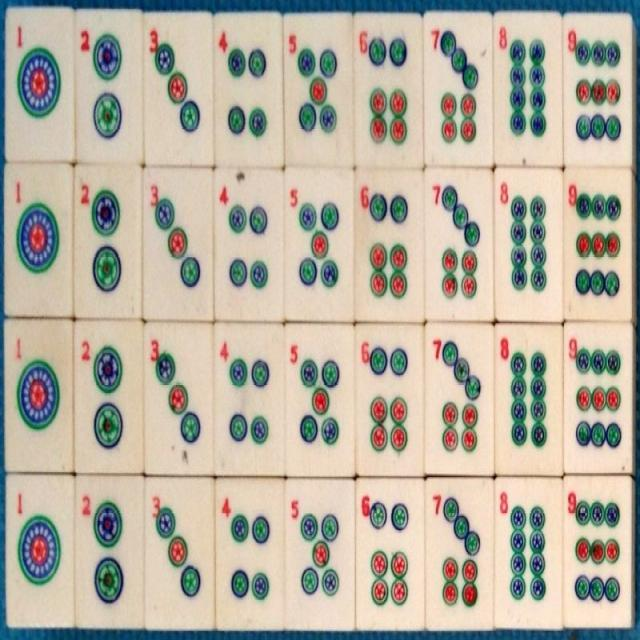sd1: (5, 319, 70, 471), (5, 163, 70, 314), (6, 480, 72, 628), (5, 12, 70, 160)
sd2: (77, 324, 146, 474), (77, 164, 144, 316), (78, 478, 146, 625), (78, 12, 145, 160)
sd3: (146, 170, 216, 318), (146, 322, 214, 474), (146, 17, 216, 163), (148, 481, 217, 626)
sd4: (216, 15, 284, 166), (216, 171, 283, 320), (218, 481, 285, 629), (217, 325, 283, 473)
sd5: (288, 324, 357, 472), (288, 172, 356, 322), (287, 18, 356, 164), (289, 482, 358, 627)
sd6: (350, 17, 420, 166), (354, 323, 421, 472), (354, 170, 421, 318), (354, 483, 421, 626)
sd7: (428, 323, 496, 471), (428, 170, 496, 318), (427, 15, 494, 164), (428, 482, 496, 628)
sd8: (498, 324, 564, 474), (494, 15, 559, 162), (498, 480, 562, 626), (499, 170, 557, 316)
sd9: (562, 16, 630, 165), (561, 170, 629, 319), (562, 323, 629, 474), (568, 478, 630, 628)
